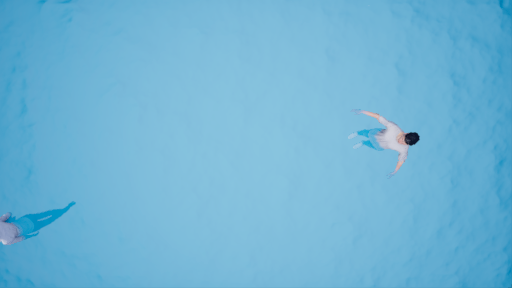person: (349, 108, 433, 173), (1, 196, 72, 248)
